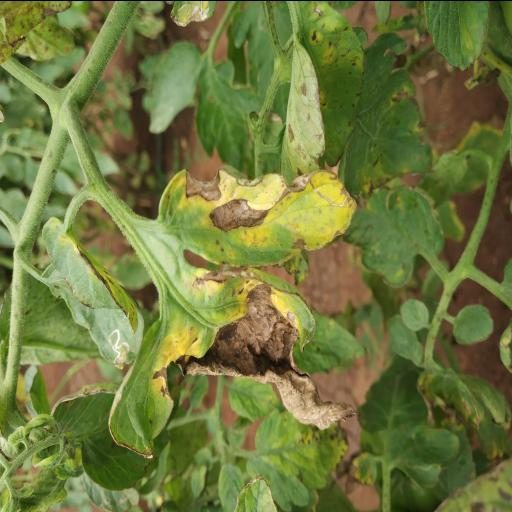disease_tomato: (110, 268, 361, 460), (158, 165, 360, 266)
